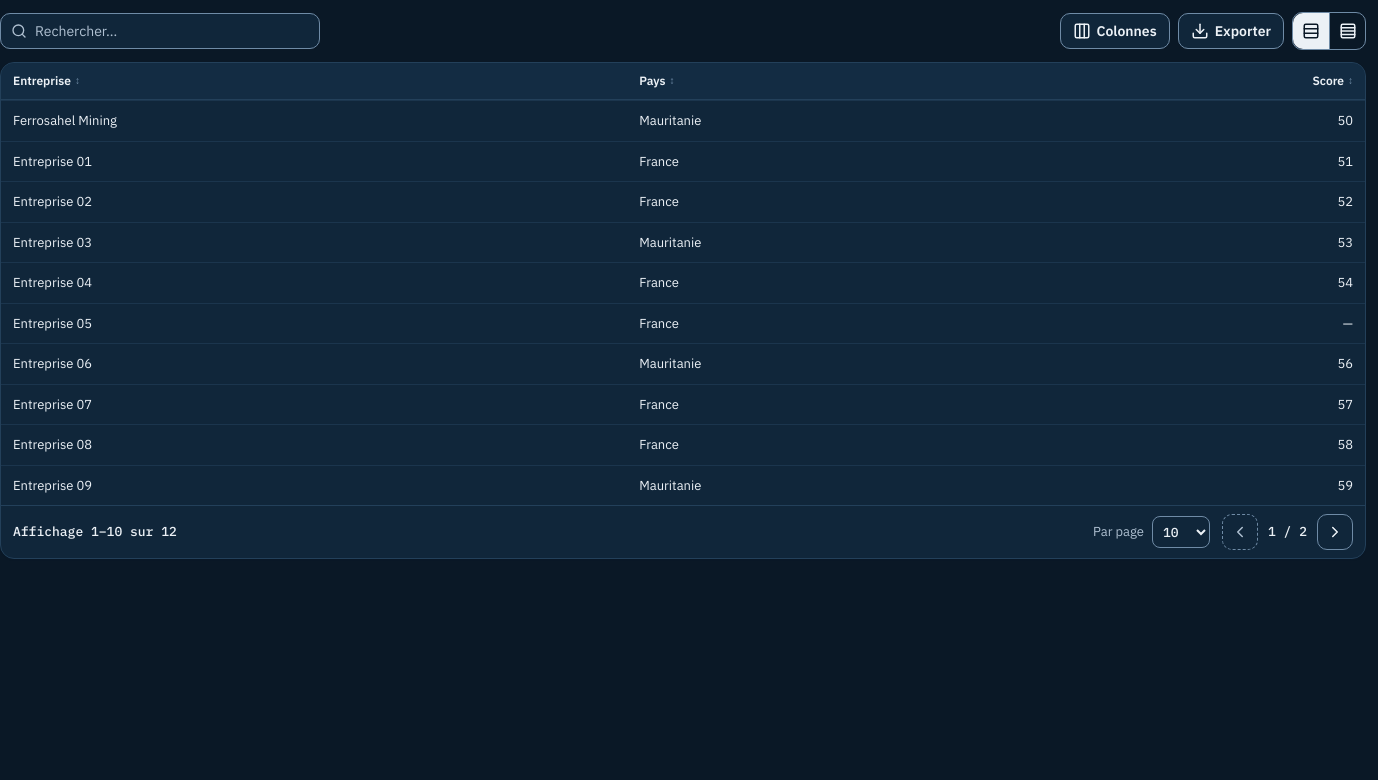
it: DataTable › relance la recherche quand une donnée extérieure déclarée change
In the search field: point(172, 31) [35,14,309,48], type "zeta"
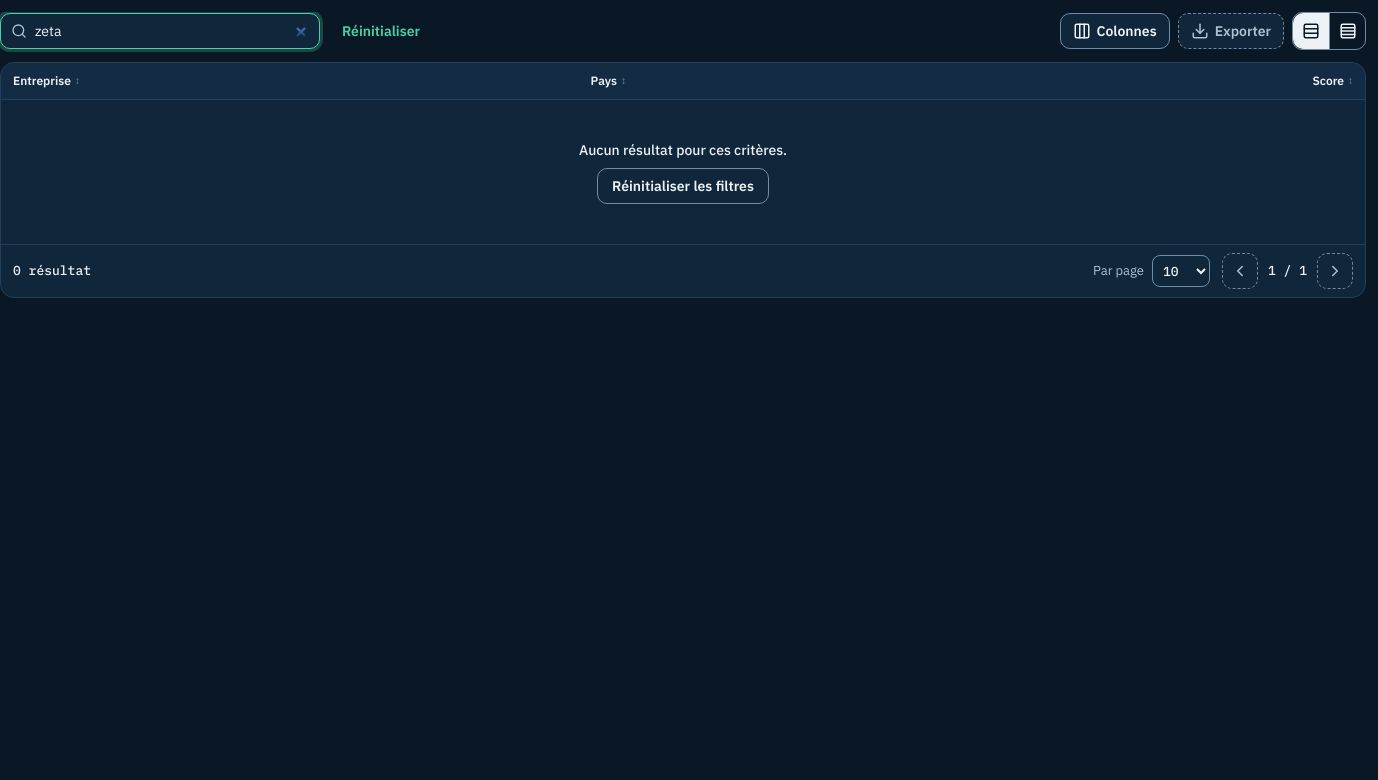
Now the text "Aucun résultat pour ces critères." is shown, box [579,140,787,160]
